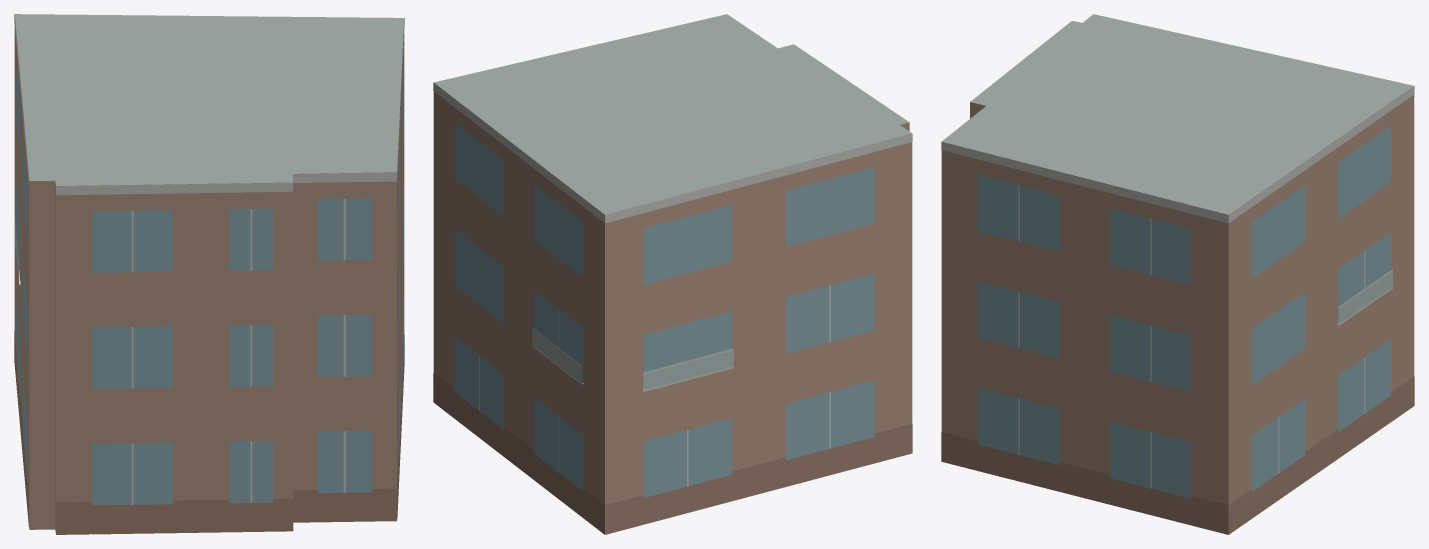
Rendered from survey-upis-32731411.glb.
3 renders of one model, left to right at view 1: azimuth 30°, elevation 25°; view 2: azimuth 150°, elevation 25°; view 3: azimuth 270°, elevation 25°, orthographic. The views are drawn at different scales.
Parts seen in each view (by area): view 1: survey-upis-32731411.tmp; view 2: survey-upis-32731411.tmp; view 3: survey-upis-32731411.tmp.
Boxes of the visible parts, left/top/right/bottom form: survey-upis-32731411.tmp: left=14, top=14, right=404, bottom=534; survey-upis-32731411.tmp: left=433, top=14, right=912, bottom=534; survey-upis-32731411.tmp: left=941, top=14, right=1414, bottom=534.
Size of the model in its own units: 12.39 by 9.2 by 12.33.
